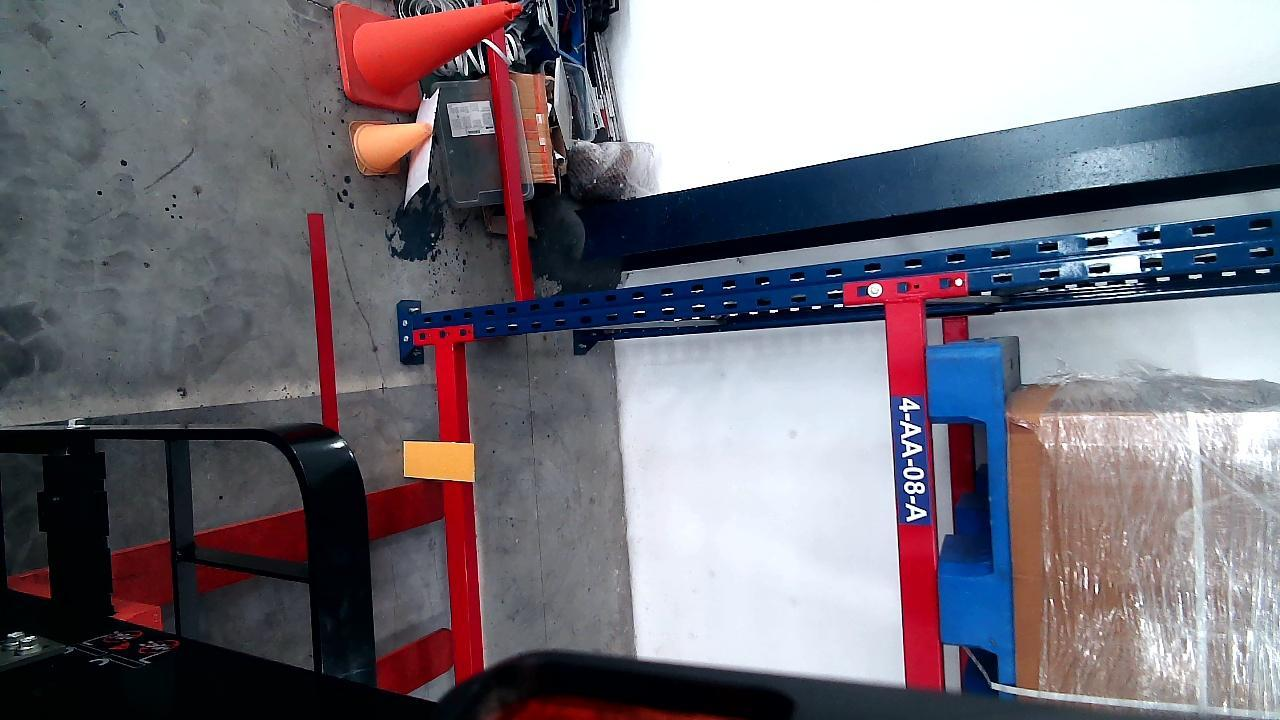red_line: (308, 210, 338, 435)
